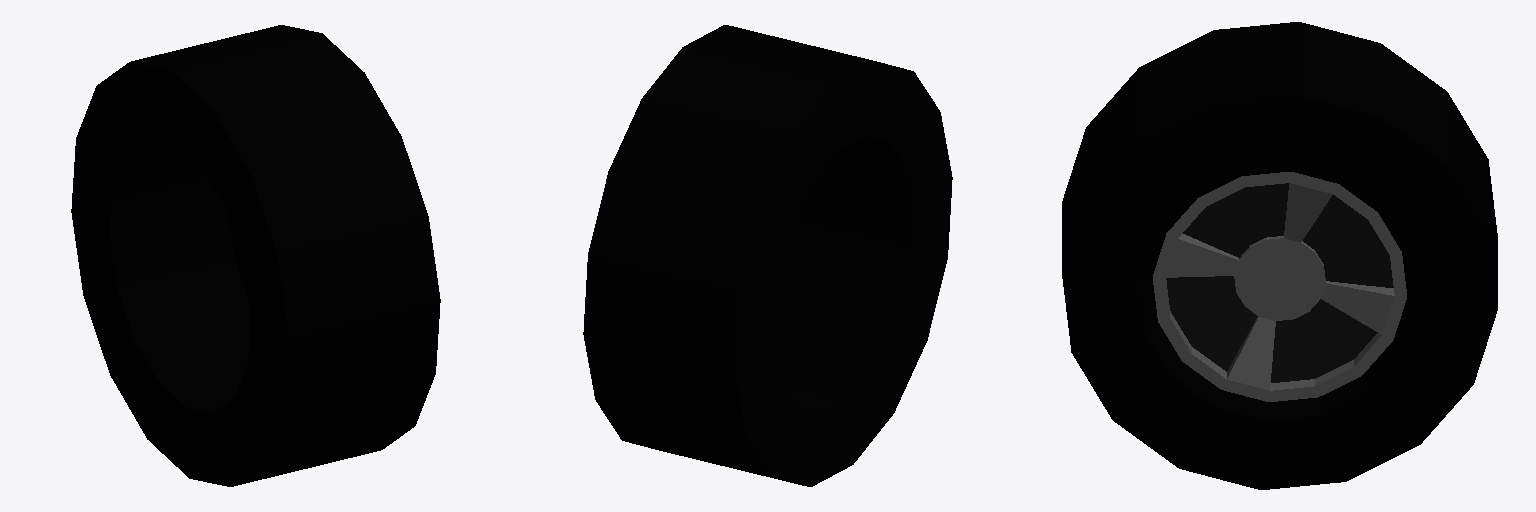
File: wheell.obj
3 renders of one model, left to right at view 1: azimuth 30°, elevation 25°; view 2: azimuth 150°, elevation 25°; view 3: azimuth 270°, elevation 25°, orthographic.
Visible parts, largest first — view 1: car-normal-red.006_Cube.016; view 2: car-normal-red.006_Cube.016; view 3: car-normal-red.006_Cube.016.
Boxes of the visible parts, x1,y1,x2,y2 form: car-normal-red.006_Cube.016: [71, 25, 440, 486]; car-normal-red.006_Cube.016: [583, 25, 952, 486]; car-normal-red.006_Cube.016: [1062, 22, 1497, 489].
Size of the model in its own units: 0.144 by 0.3586 by 0.3586.